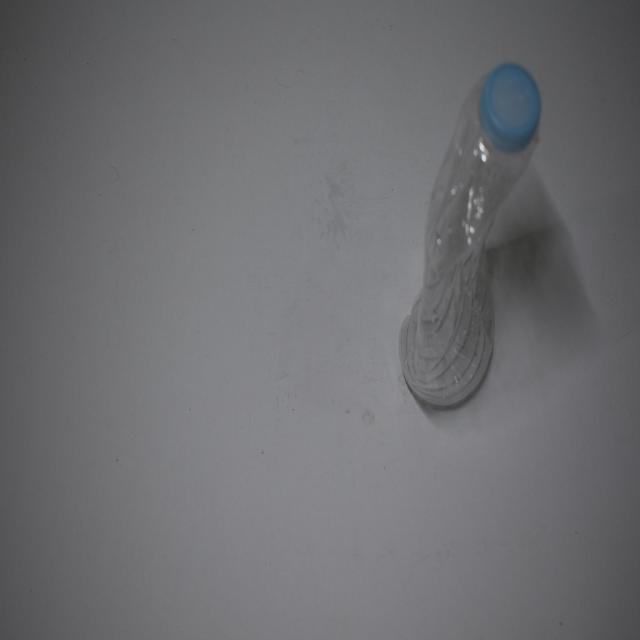plastic: (395, 51, 544, 418)
